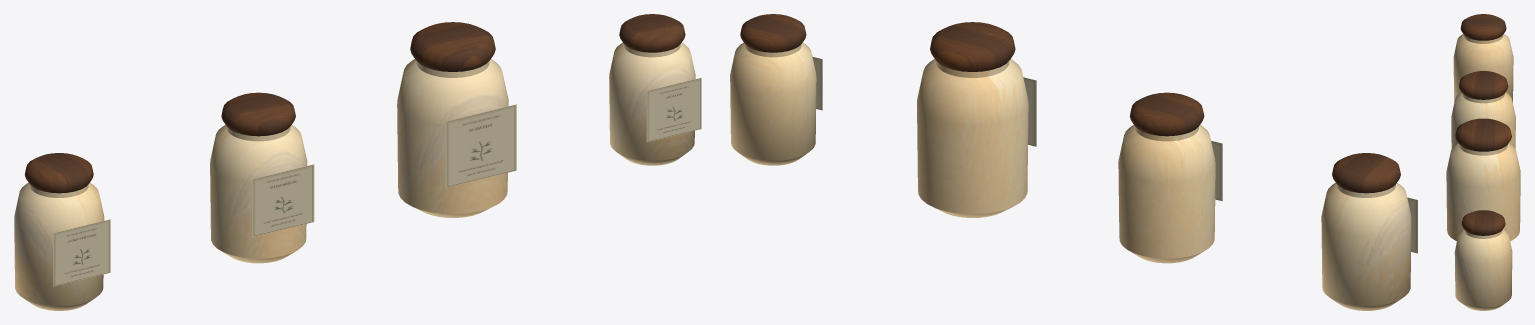
The model's file is CM_AF01_MedicineRowA.fbx.
3 views of the same model, side by side, from view 1: azimuth 30°, elevation 25°; view 2: azimuth 150°, elevation 25°; view 3: azimuth 270°, elevation 25° (orthographic). The views are drawn at different scales.
Parts seen in each view (by area): view 1: CM_AF01_MedicineRowA; view 2: CM_AF01_MedicineRowA; view 3: CM_AF01_MedicineRowA.
Part boxes in pixels (x1,y1,x2,y2): CM_AF01_MedicineRowA: [14, 14, 701, 310]; CM_AF01_MedicineRowA: [730, 14, 1417, 310]; CM_AF01_MedicineRowA: [1446, 14, 1520, 310].
Size of the model in its own units: 1.31 by 0.31 by 0.1902.
